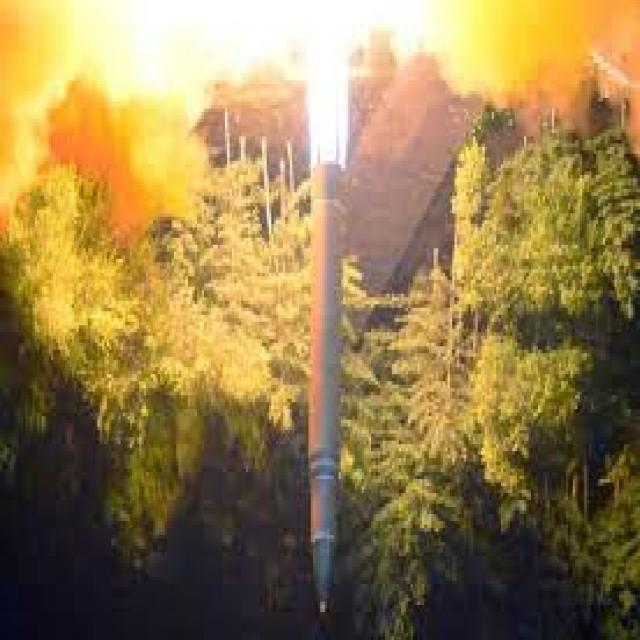Missile: (301, 159, 350, 640)
